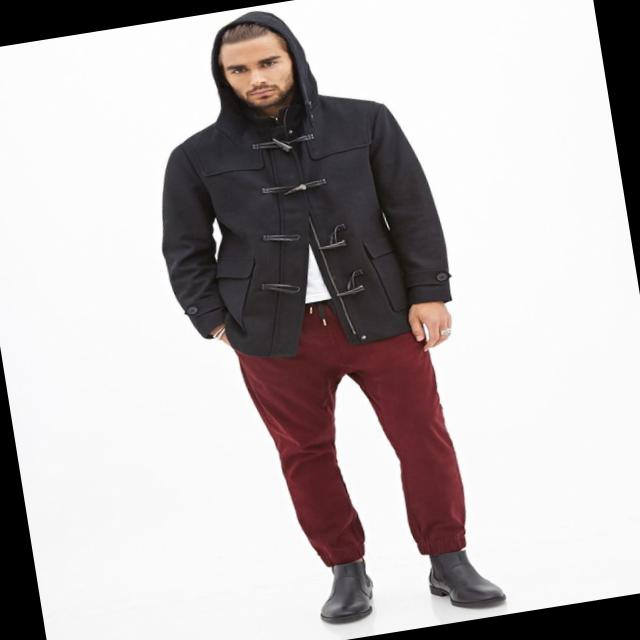Jacket: (121, 0, 457, 373)
